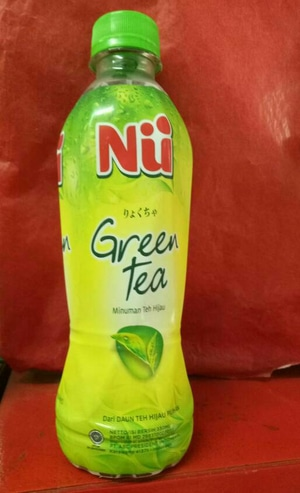botol: (42, 12, 194, 477), (53, 12, 194, 477)
